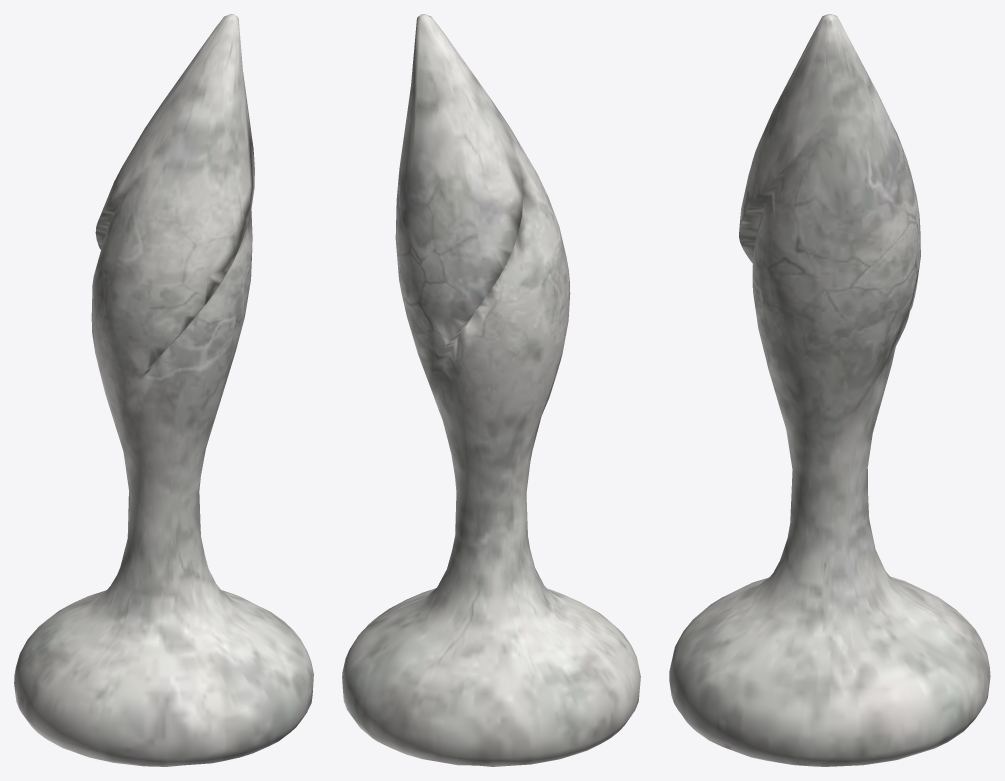
Rendered from Serpentina_queen_white.glb.
3 views of the same model, side by side, from view 1: azimuth 30°, elevation 25°; view 2: azimuth 150°, elevation 25°; view 3: azimuth 270°, elevation 25° (orthographic). The views are drawn at different scales.
Visible parts, largest first — view 1: Serpentina_queen_white; view 2: Serpentina_queen_white; view 3: Serpentina_queen_white.
Boxes of the visible parts, x1=… form: Serpentina_queen_white: x1=14, y1=14, x2=313, y2=766; Serpentina_queen_white: x1=342, y1=14, x2=640, y2=766; Serpentina_queen_white: x1=669, y1=14, x2=990, y2=766.
Bounding box in the file's own units: 0.0381 × 0.0952 × 0.0381.
Materials: 1 (1 with a texture image).
